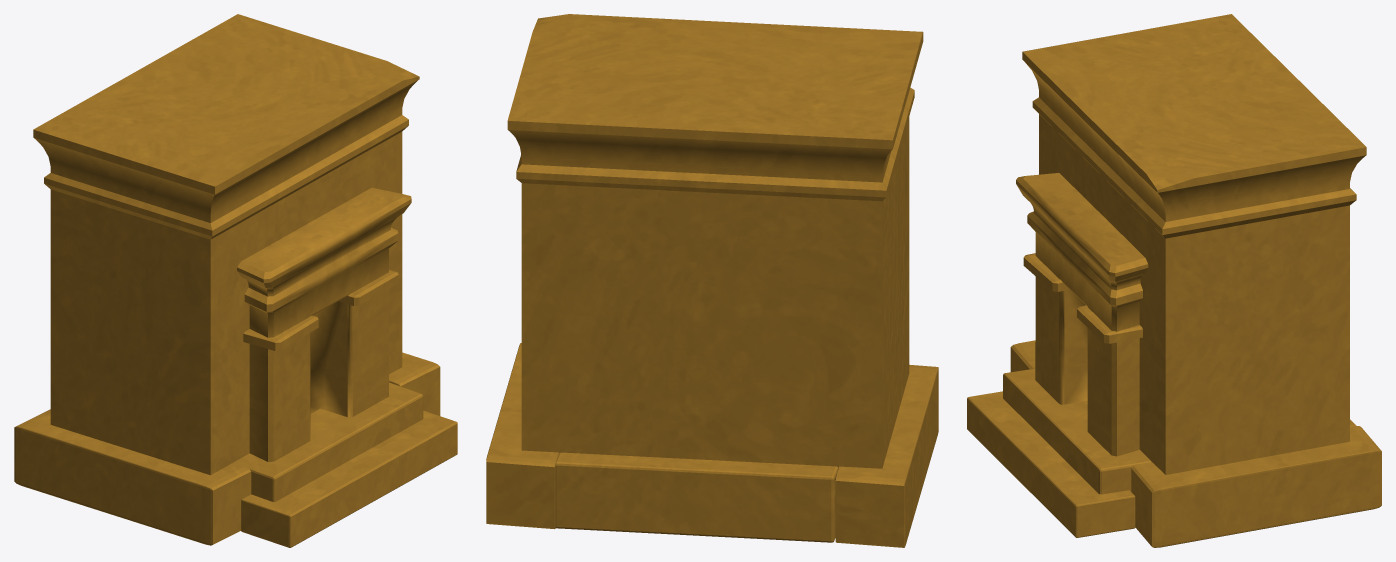
Rendered from tomb.glb.
3 views of the same model, side by side, from view 1: azimuth 30°, elevation 25°; view 2: azimuth 150°, elevation 25°; view 3: azimuth 270°, elevation 25° (orthographic). The views are drawn at different scales.
Parts seen in each view (by area): view 1: tomb; view 2: tomb; view 3: tomb.
Part boxes in pixels (x1,y1,x2,y2): tomb: (14, 14, 457, 547); tomb: (486, 14, 938, 547); tomb: (967, 14, 1381, 547).
Bounding box in the file's own units: 13.67 × 12.12 × 12.83.
Materials: 1 (1 with a texture image).
